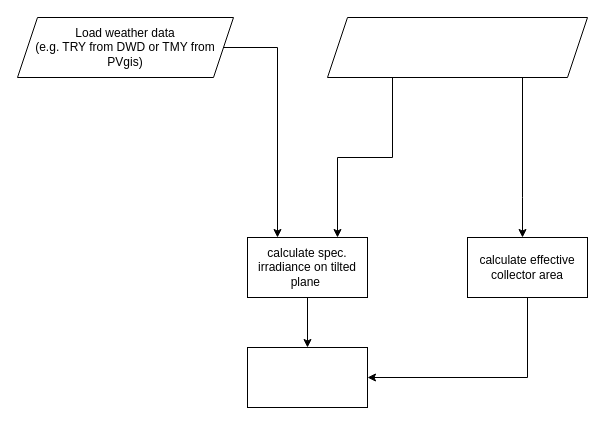
This 605x425 diagram has some shape labels left out. The centre of each missing label's shape, as x and y in pixels:
"calculate effective irradiance on window" belongs at point 307,377.
"Define window properties (Area, Shading factor, Orientation, g-value, etc...)" belongs at point 457,47.
